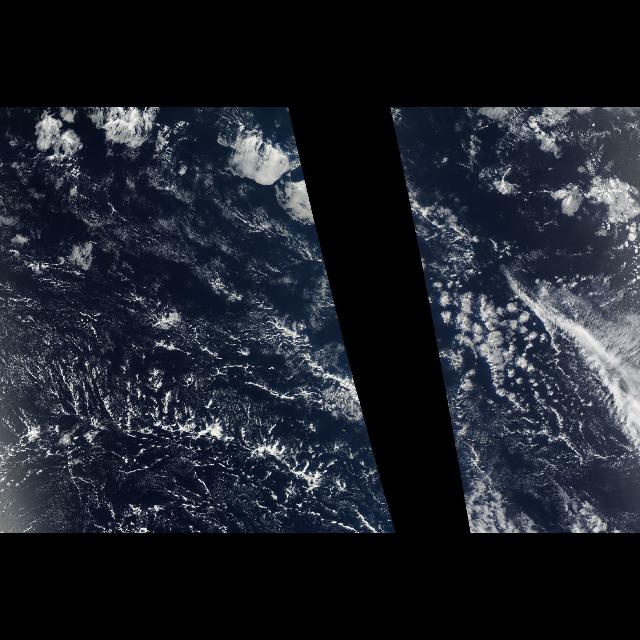Gravel: (39, 363, 358, 489)
